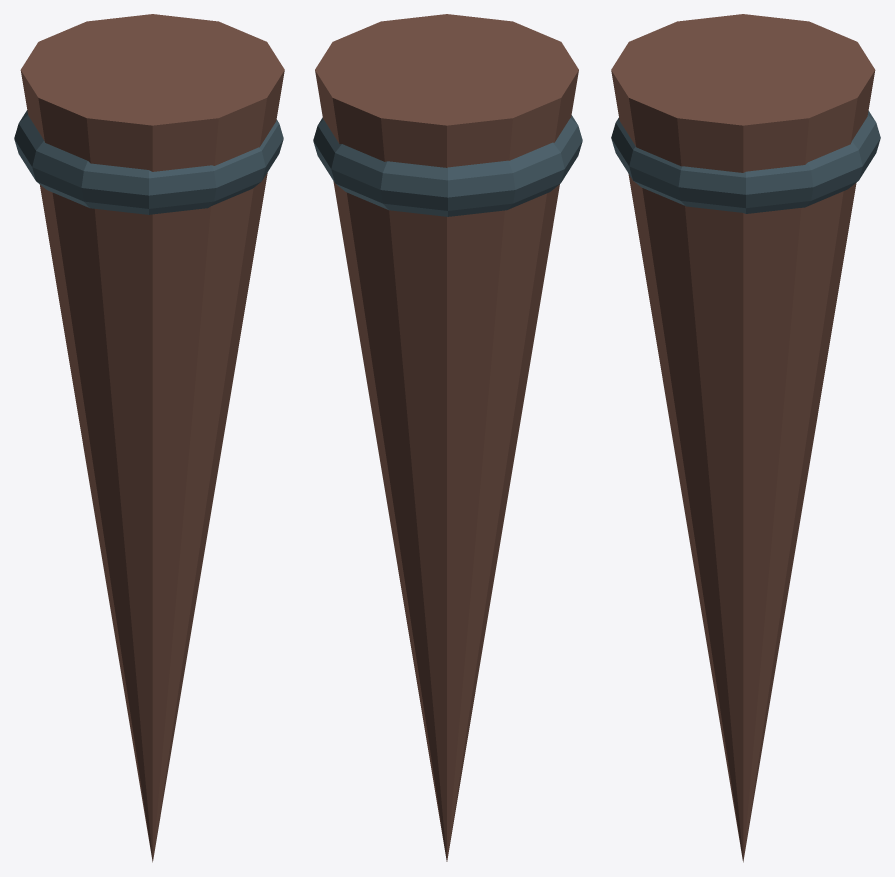
3 renders of one model, left to right at view 1: azimuth 30°, elevation 25°; view 2: azimuth 150°, elevation 25°; view 3: azimuth 270°, elevation 25°, orthographic.
Visible parts, largest first — view 1: mesh_102073391, mesh_40597302; view 2: mesh_102073391, mesh_40597302; view 3: mesh_102073391, mesh_40597302.
Part boxes in pixels (x1,y1,x2,y2): mesh_102073391: (20,14,284,862); mesh_40597302: (14,110,283,214); mesh_102073391: (315,14,578,861); mesh_40597302: (313,115,582,216); mesh_102073391: (611,14,875,862); mesh_40597302: (611,111,880,213).
Size of the model in its own units: 49 by 159 by 49.
